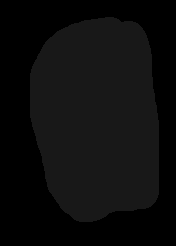fp: (38, 15, 155, 216)
